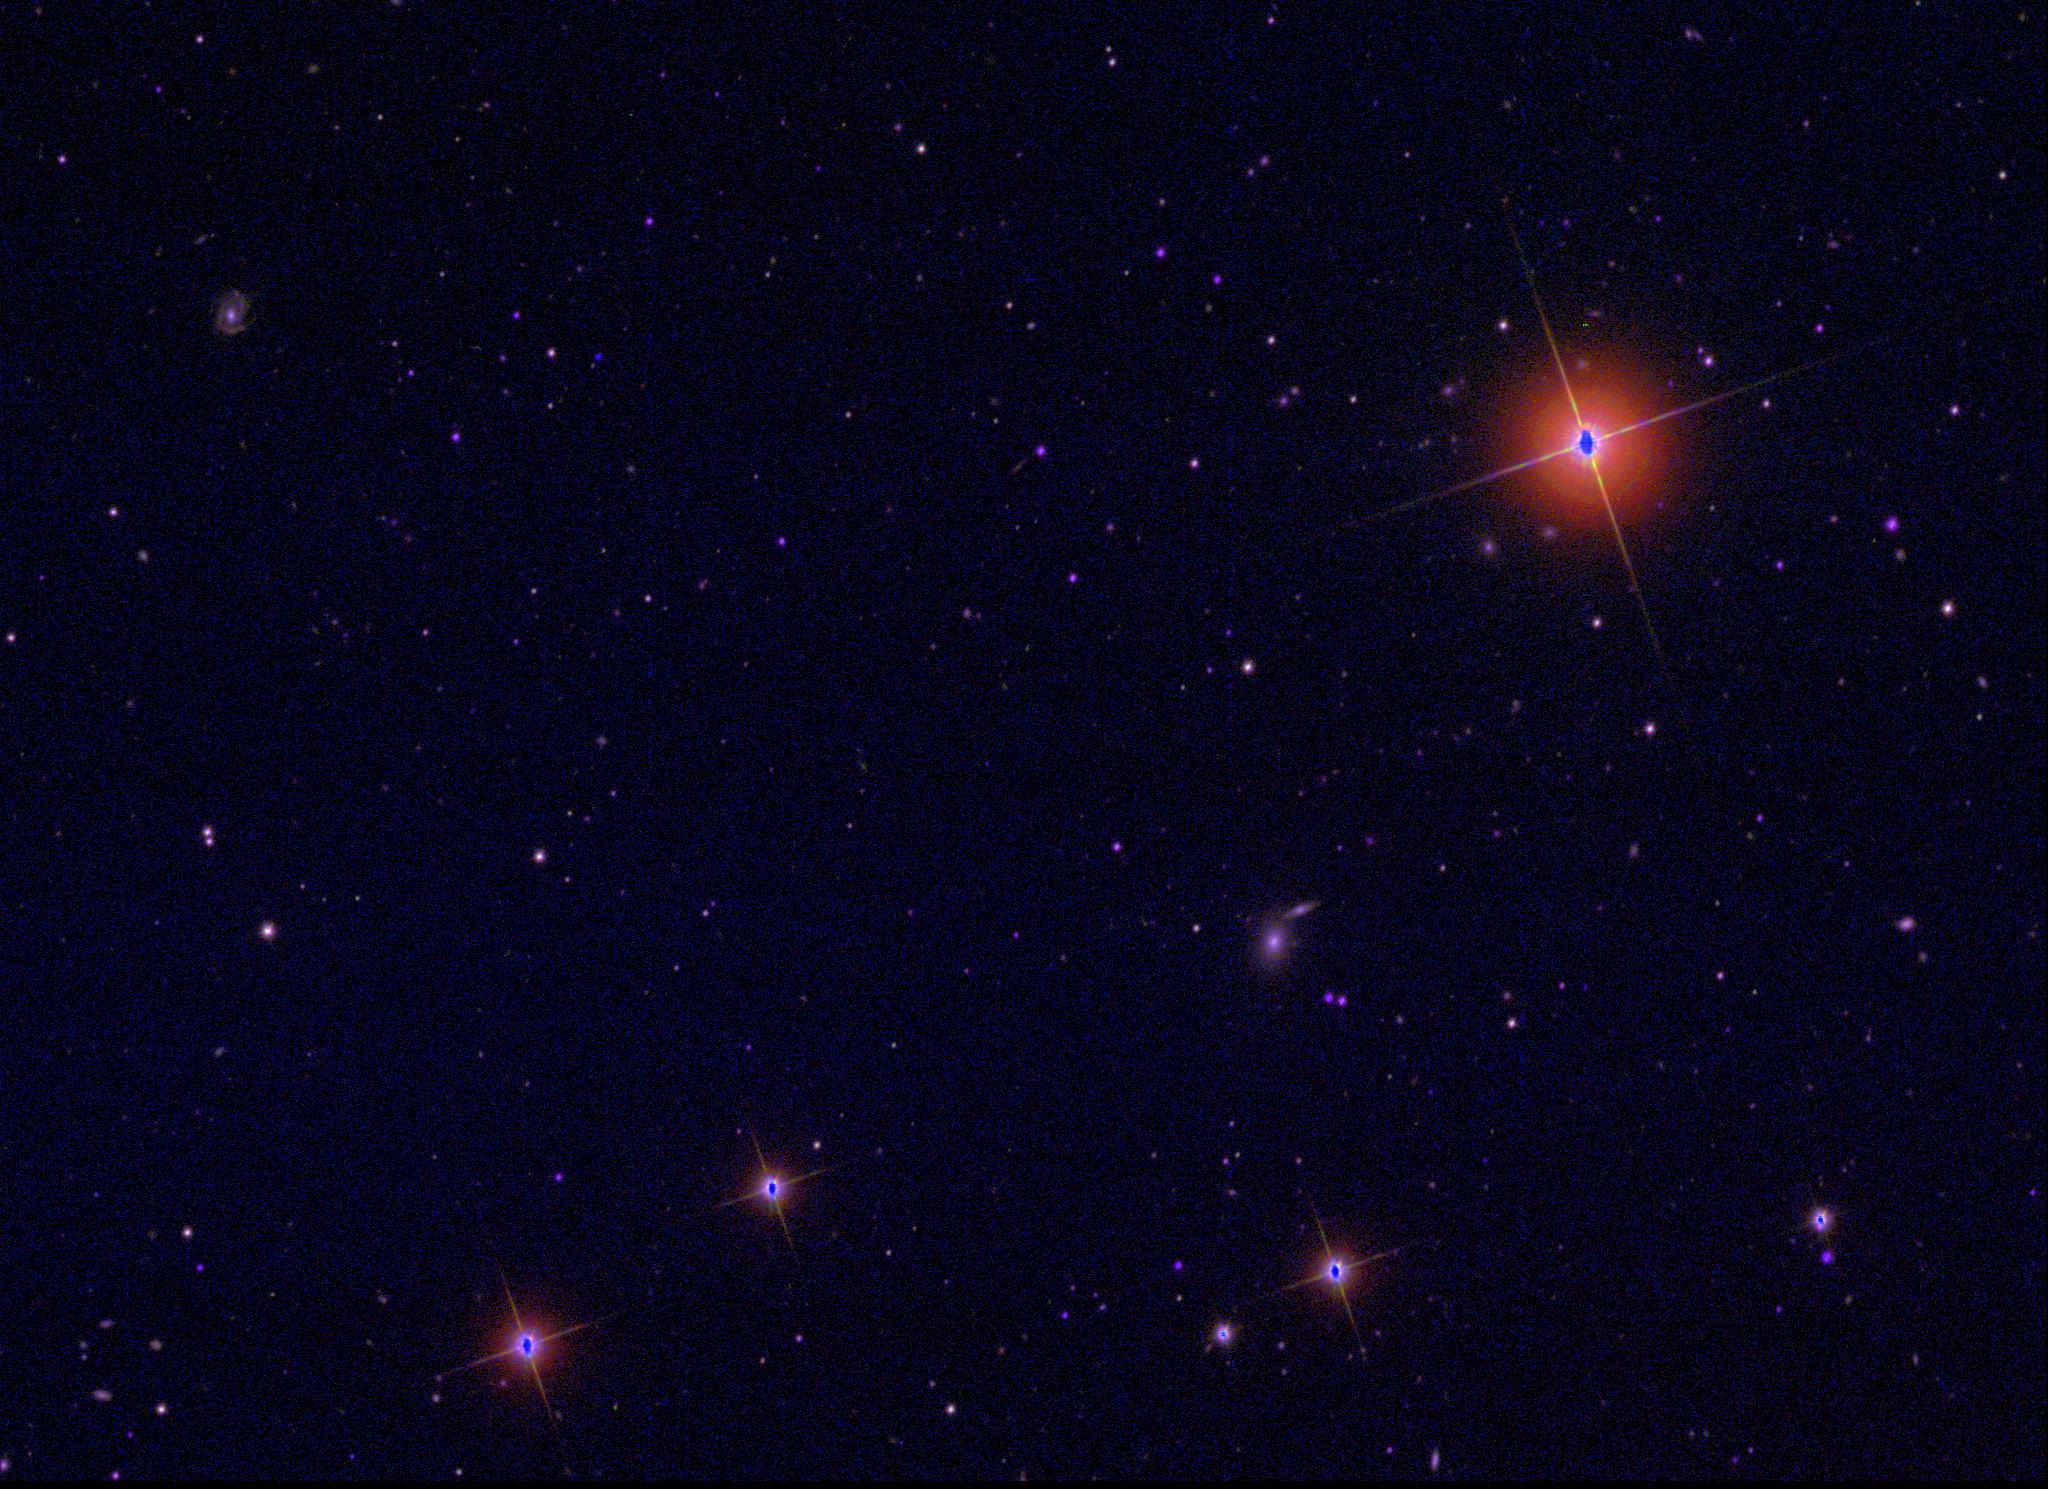L: (590, 352, 604, 366)
